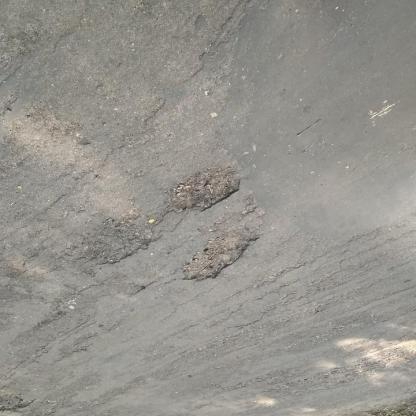pothole: (181, 228, 264, 287), (78, 216, 168, 269), (169, 164, 245, 216)
